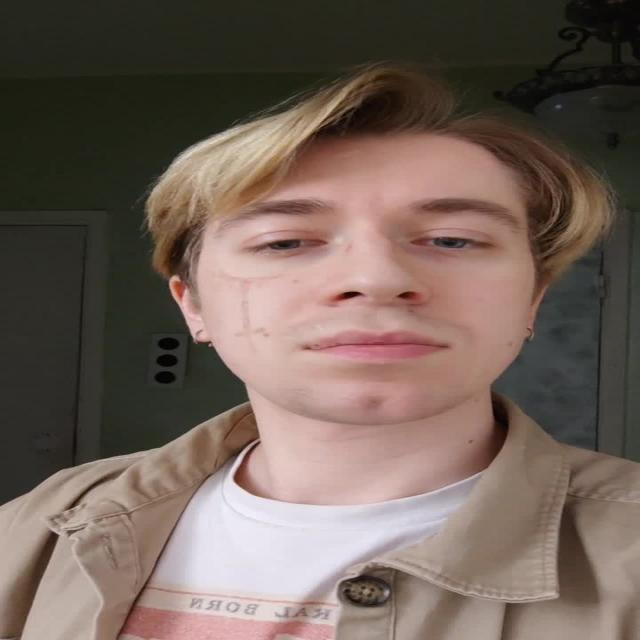earlobe: (187, 316, 213, 342), (523, 311, 538, 341)
eye: (412, 231, 492, 251), (248, 236, 332, 252)
nose: (321, 294, 434, 333)
wholeear: (168, 274, 212, 342), (522, 276, 552, 341)
